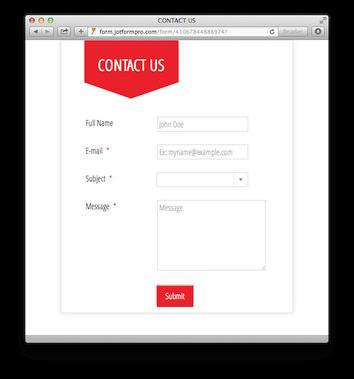button: (153, 284, 196, 308)
field: (155, 198, 267, 273), (155, 114, 250, 133), (154, 171, 251, 189), (155, 143, 251, 161)
field_with_label: (85, 197, 271, 275), (84, 111, 253, 134), (85, 141, 253, 163), (84, 169, 254, 190)
